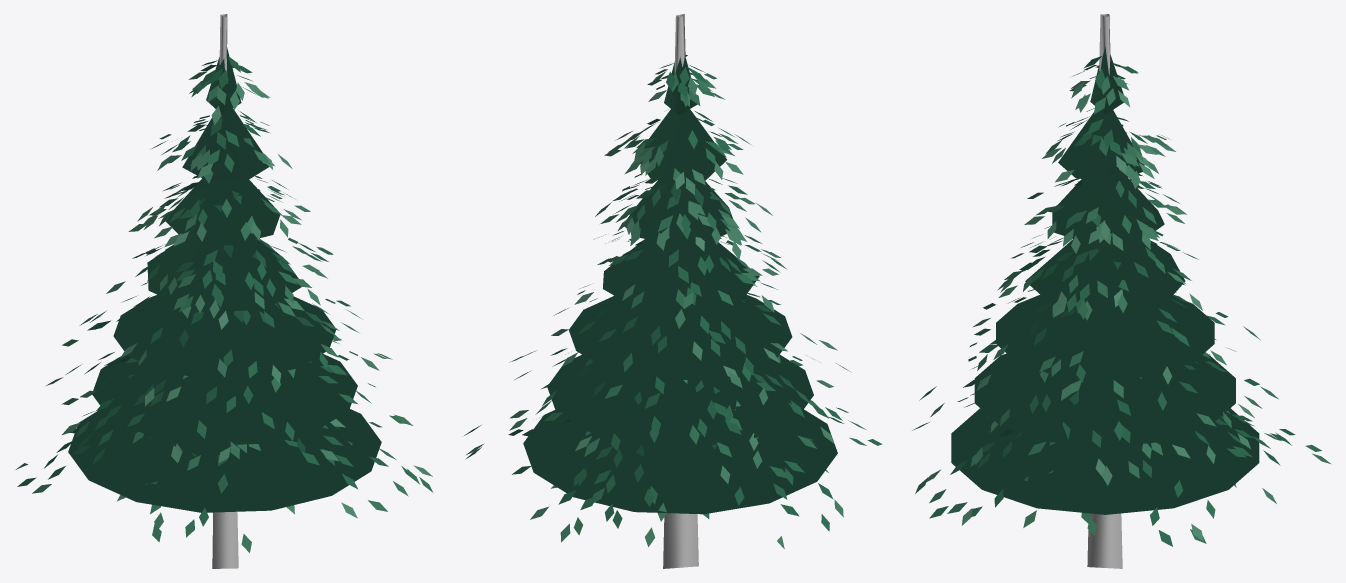
The model's file is t_pine2.fbx.
The picture shows the model from 3 angles, left to right: view 1: azimuth 30°, elevation 25°; view 2: azimuth 150°, elevation 25°; view 3: azimuth 270°, elevation 25°; orthographic projection.
Parts seen in each view (by area): view 1: model; view 2: model; view 3: model.
Boxes of the visible parts, x1,y1,x2,y2 form: model: (15, 14, 433, 568); model: (464, 14, 882, 568); model: (912, 14, 1331, 568).
Size of the model in its own units: 0.8168 by 1.18 by 0.8193.
